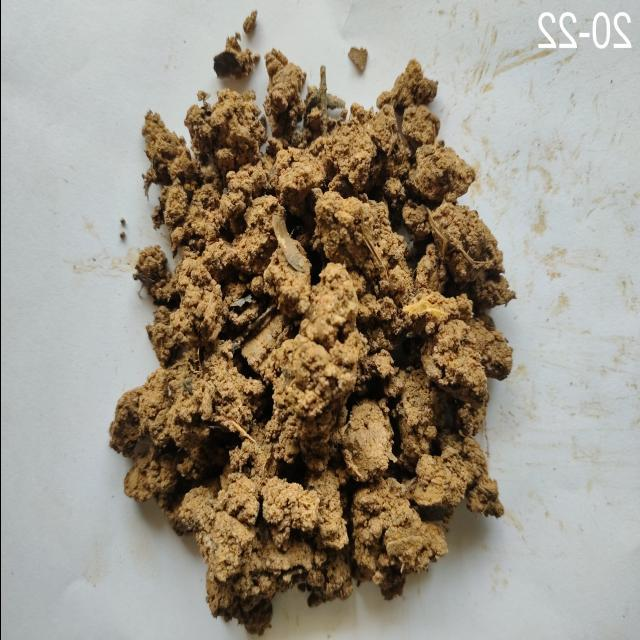soil: (181, 176, 440, 498)
